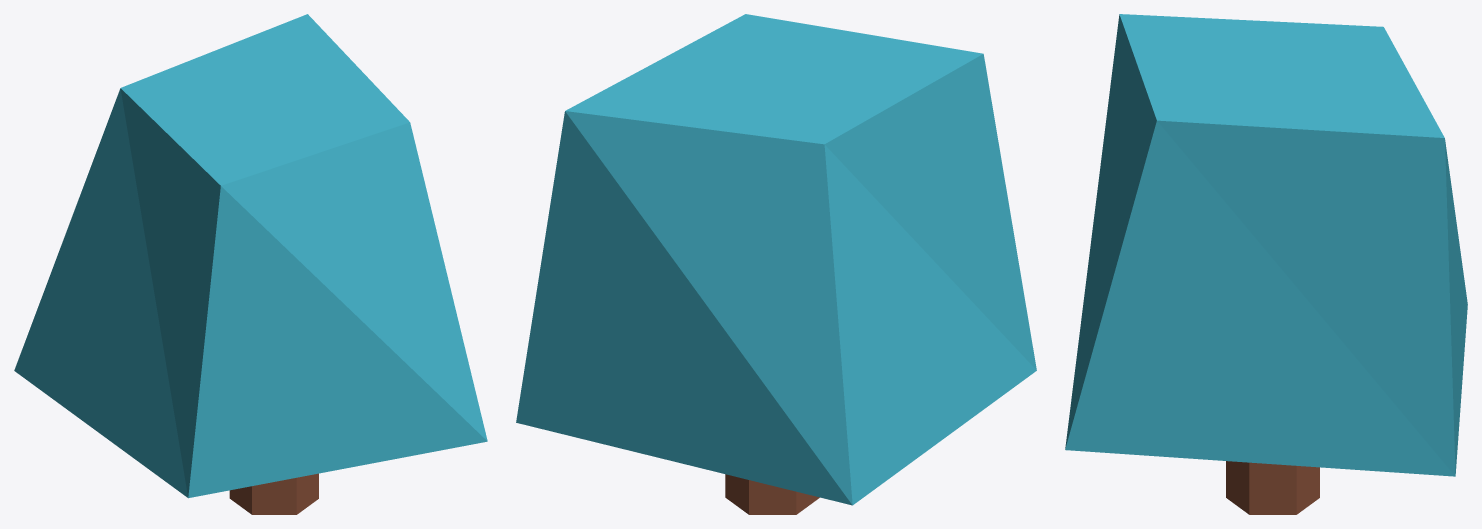
Rendered from Bush_11_summer_blue.fbx.
3 renders of one model, left to right at view 1: azimuth 30°, elevation 25°; view 2: azimuth 150°, elevation 25°; view 3: azimuth 270°, elevation 25°, orthographic. The views are drawn at different scales.
Parts seen in each view (by area): view 1: Bush_11_summer_blue; view 2: Bush_11_summer_blue; view 3: Bush_11_summer_blue.
Part boxes in pixels (box(x1,y1,x2,y2)): Bush_11_summer_blue: box(14, 14, 487, 514); Bush_11_summer_blue: box(516, 14, 1036, 514); Bush_11_summer_blue: box(1065, 14, 1467, 514).
Bounding box in the file's own units: 50.88 × 59.59 × 51.95.
